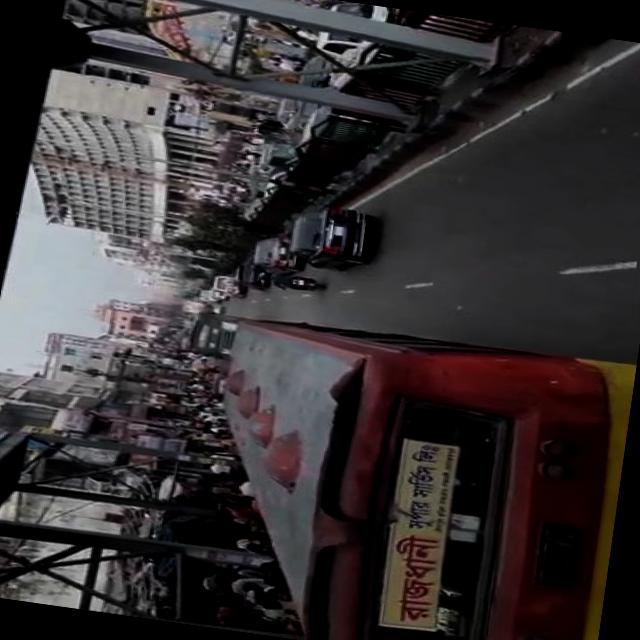bus: (185, 307, 633, 640), (184, 308, 240, 361)
car: (284, 201, 368, 275), (297, 104, 376, 162), (244, 230, 302, 278), (296, 54, 332, 88), (230, 262, 266, 292), (272, 100, 302, 134), (207, 274, 240, 299)
motorcycle: (261, 140, 300, 170), (280, 275, 323, 294)
truck: (305, 0, 401, 98)
